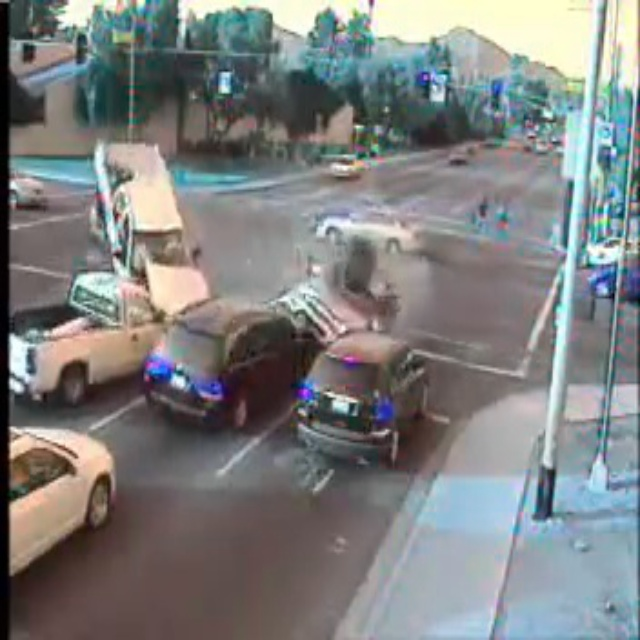acc: (12, 139, 408, 461)
